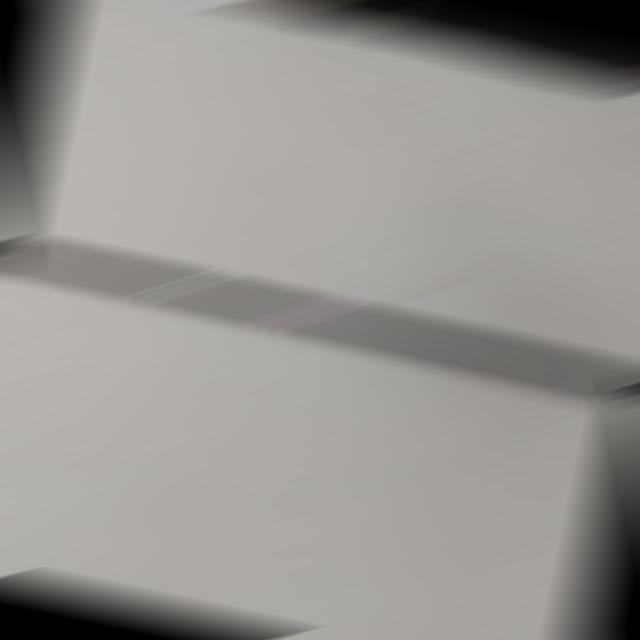pink: (275, 307, 340, 320)
